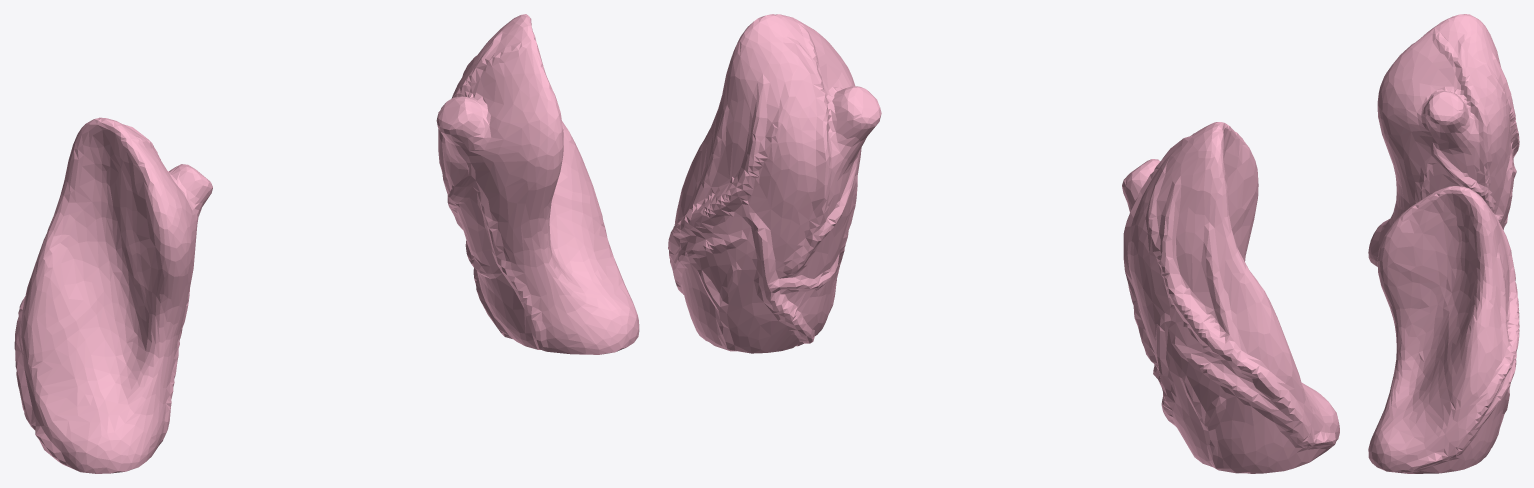
Rendered from frog_lungs.glb.
3 views of the same model, side by side, from view 1: azimuth 30°, elevation 25°; view 2: azimuth 150°, elevation 25°; view 3: azimuth 270°, elevation 25° (orthographic). The views are drawn at different scales.
Visible parts, largest first — view 1: frog_lungs; view 2: frog_lungs; view 3: frog_lungs.
Part boxes in pixels (x1,y1,x2,y2): frog_lungs: (14, 14, 639, 473); frog_lungs: (668, 14, 1339, 473); frog_lungs: (1368, 14, 1519, 473).
Size of the model in its own units: 1.5 by 0.7397 by 0.3957.
